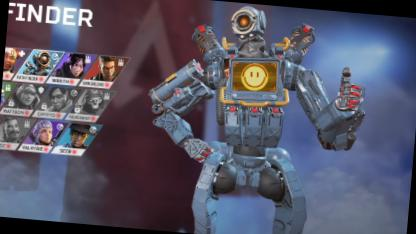Target: (171, 0, 338, 232)
